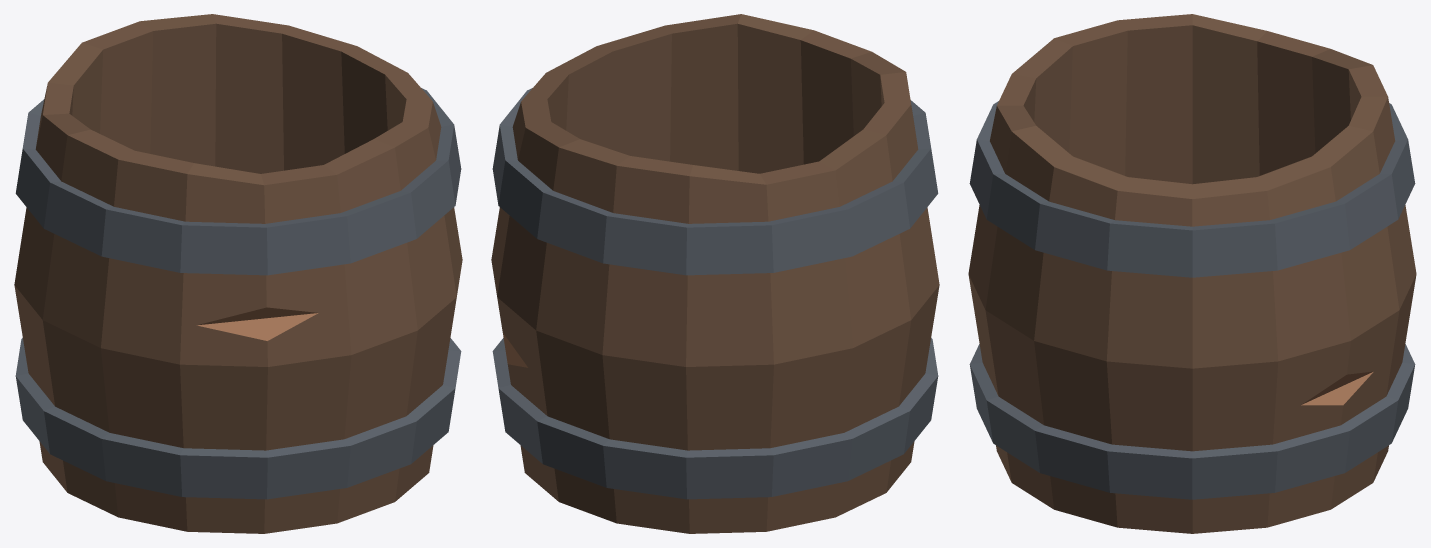
Rendered from Barrel_2_Brown.fbx.
The picture shows the model from 3 angles, left to right: view 1: azimuth 30°, elevation 25°; view 2: azimuth 150°, elevation 25°; view 3: azimuth 270°, elevation 25°; orthographic projection.
Parts seen in each view (by area): view 1: Barrel_2_Brown_Part_1, Barrel_2_Brown_Part_3, Barrel_2_Brown_Part_2; view 2: Barrel_2_Brown_Part_1, Barrel_2_Brown_Part_3; view 3: Barrel_2_Brown_Part_1, Barrel_2_Brown_Part_3, Barrel_2_Brown_Part_2.
Boxes of the visible parts, x1,y1,x2,y2 form: Barrel_2_Brown_Part_1: (14,14,462,533); Barrel_2_Brown_Part_3: (15,88,461,499); Barrel_2_Brown_Part_2: (197,307,318,340); Barrel_2_Brown_Part_1: (491,14,939,533); Barrel_2_Brown_Part_3: (492,88,938,499); Barrel_2_Brown_Part_1: (968,14,1416,533); Barrel_2_Brown_Part_3: (969,101,1415,499); Barrel_2_Brown_Part_2: (1301,371,1373,405).
Size of the model in its own units: 172 by 150 by 172.
